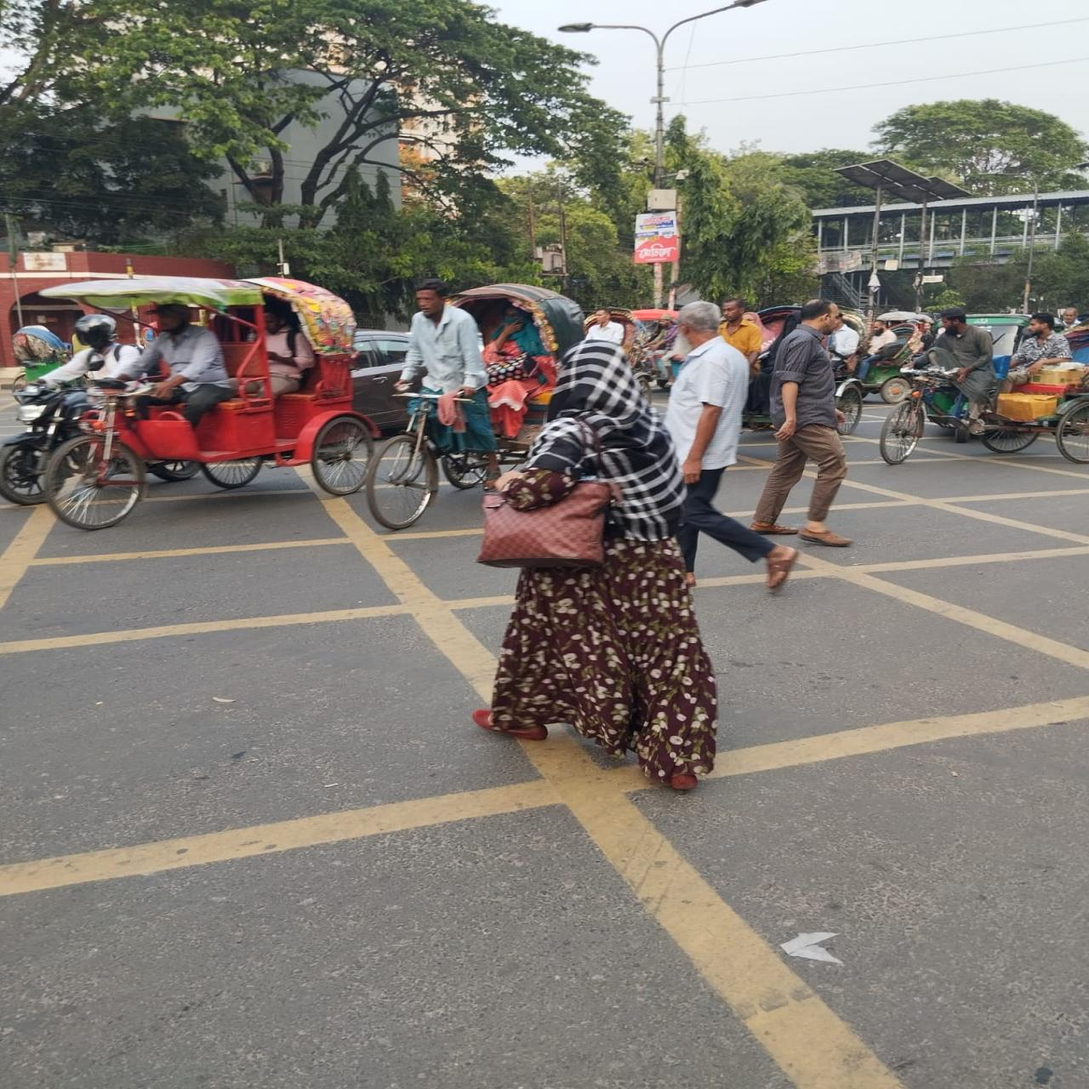person: (476, 345, 731, 800), (651, 298, 801, 587), (757, 301, 862, 548)
